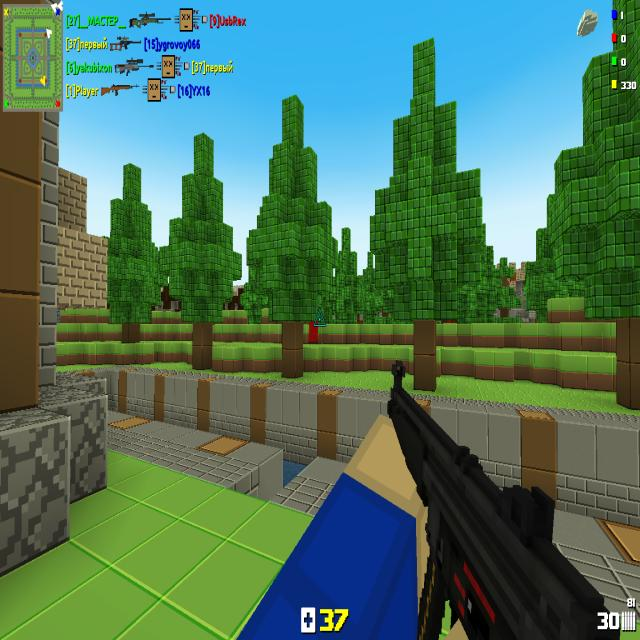enemy: (308, 318, 318, 345)
